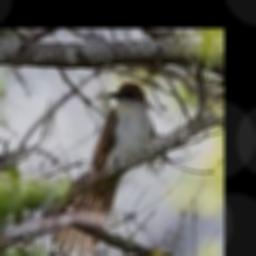Cuckoo: (51, 81, 156, 256)
